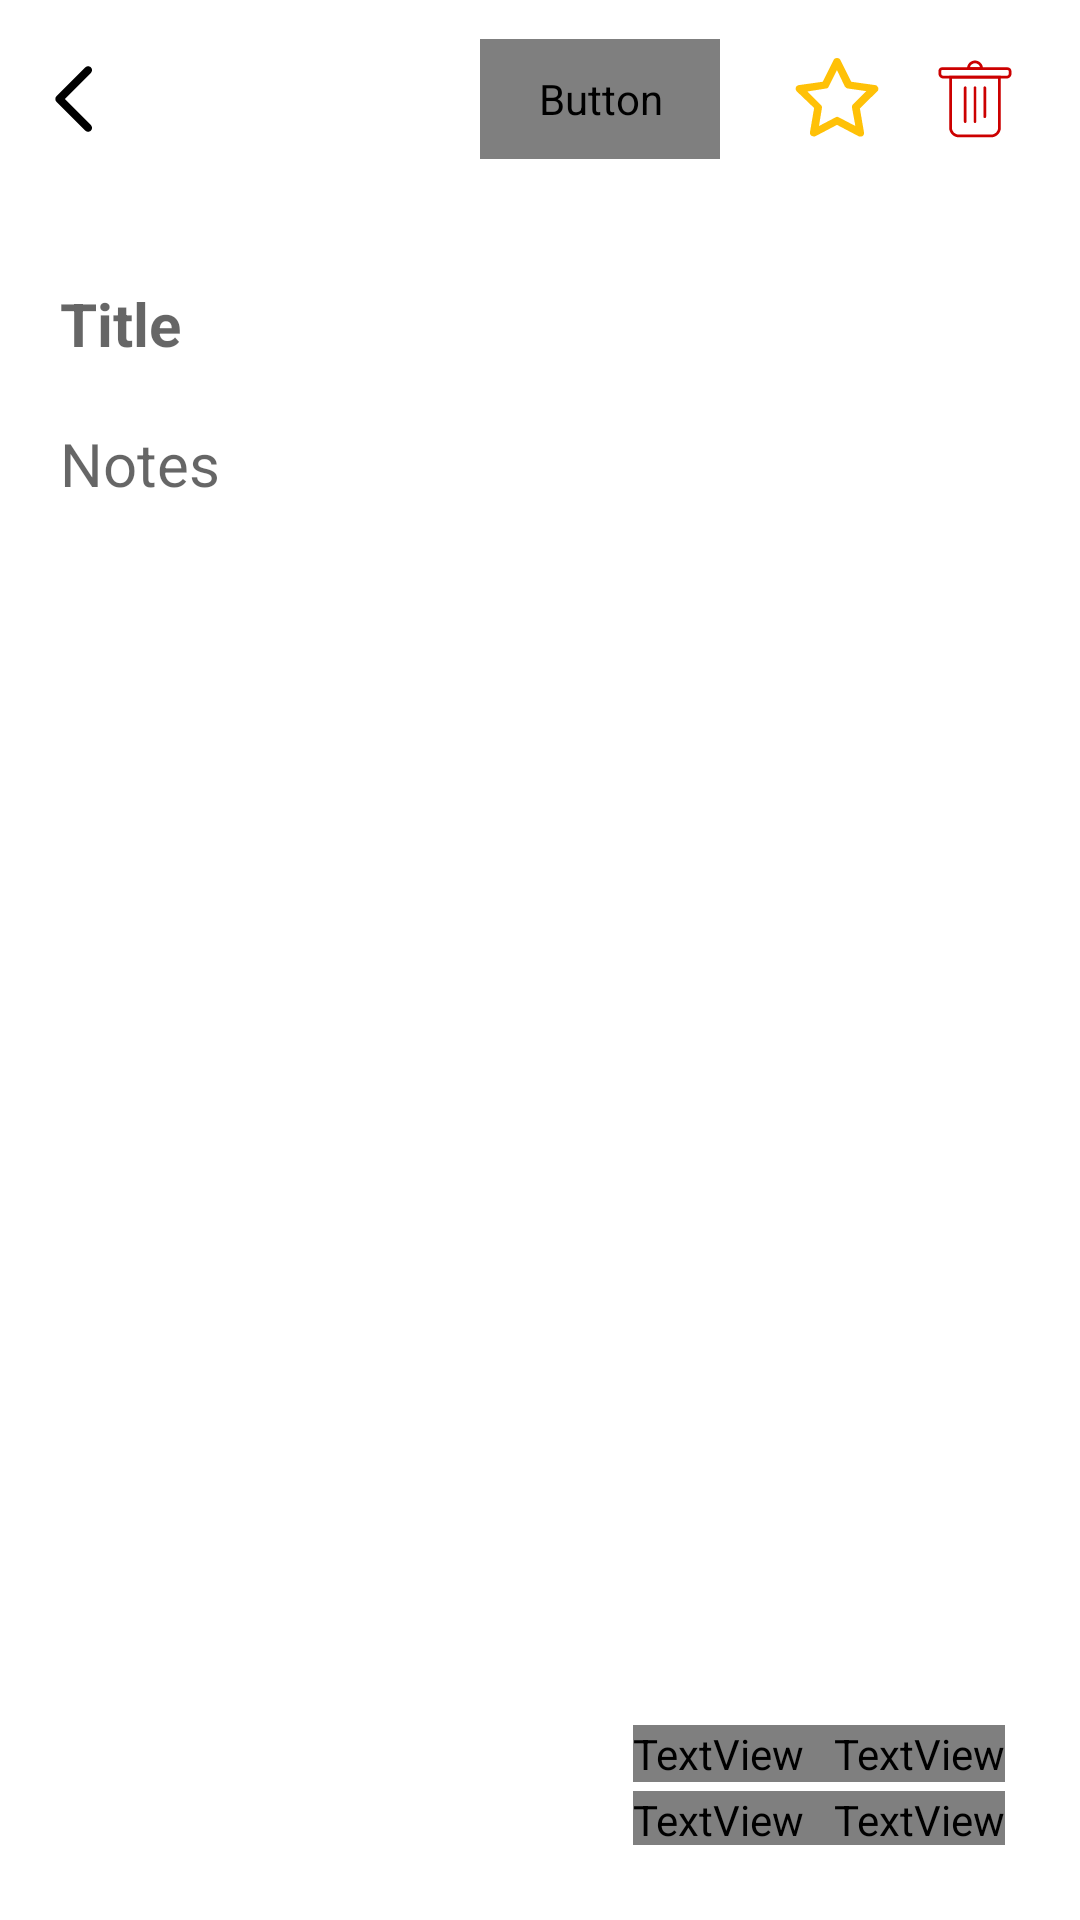

Icons on this 1080×1920 Android screen, each with the point to tap as (x,y):
back: (73,99)
delete: (975,99)
star: (837,97)
